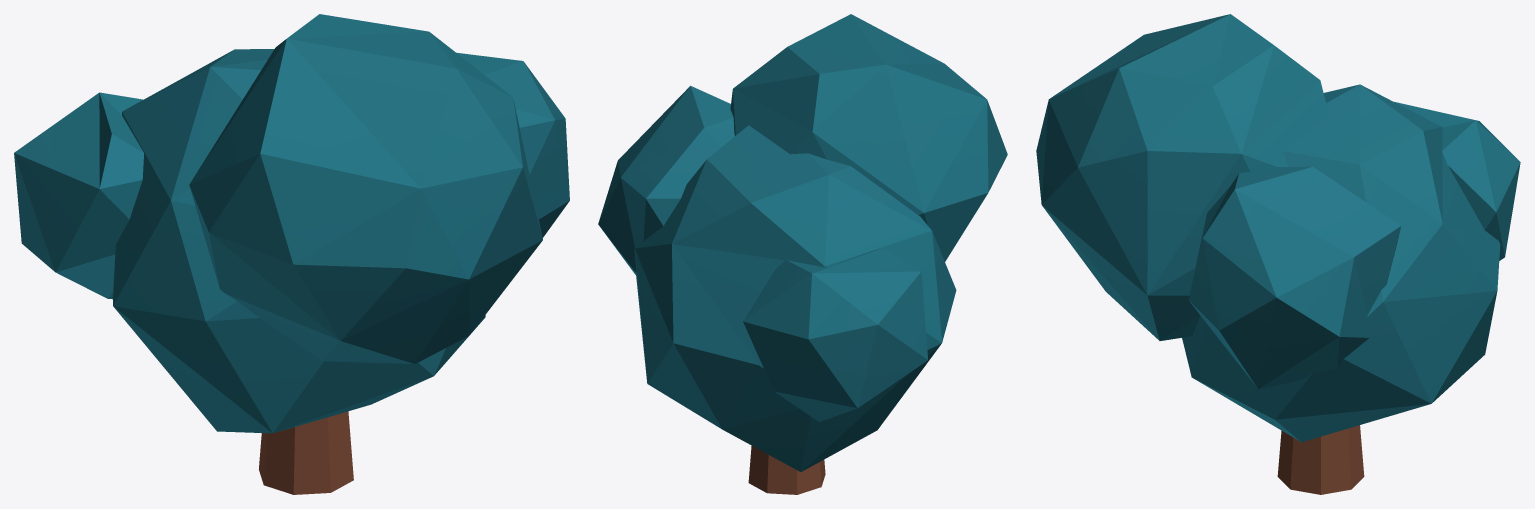
Rendered from Bush_5_gradient_blue_vc.fbx.
The picture shows the model from 3 angles, left to right: view 1: azimuth 30°, elevation 25°; view 2: azimuth 150°, elevation 25°; view 3: azimuth 270°, elevation 25°; orthographic projection. The views are drawn at different scales.
Visible parts, largest first — view 1: Bush_5_gradient_blue_vc; view 2: Bush_5_gradient_blue_vc; view 3: Bush_5_gradient_blue_vc.
Part boxes in pixels (x1,y1,x2,y2): Bush_5_gradient_blue_vc: (14, 14, 569, 494); Bush_5_gradient_blue_vc: (598, 14, 1007, 494); Bush_5_gradient_blue_vc: (1036, 14, 1520, 494).
Size of the model in its own units: 31.34 by 32.92 by 33.43.
